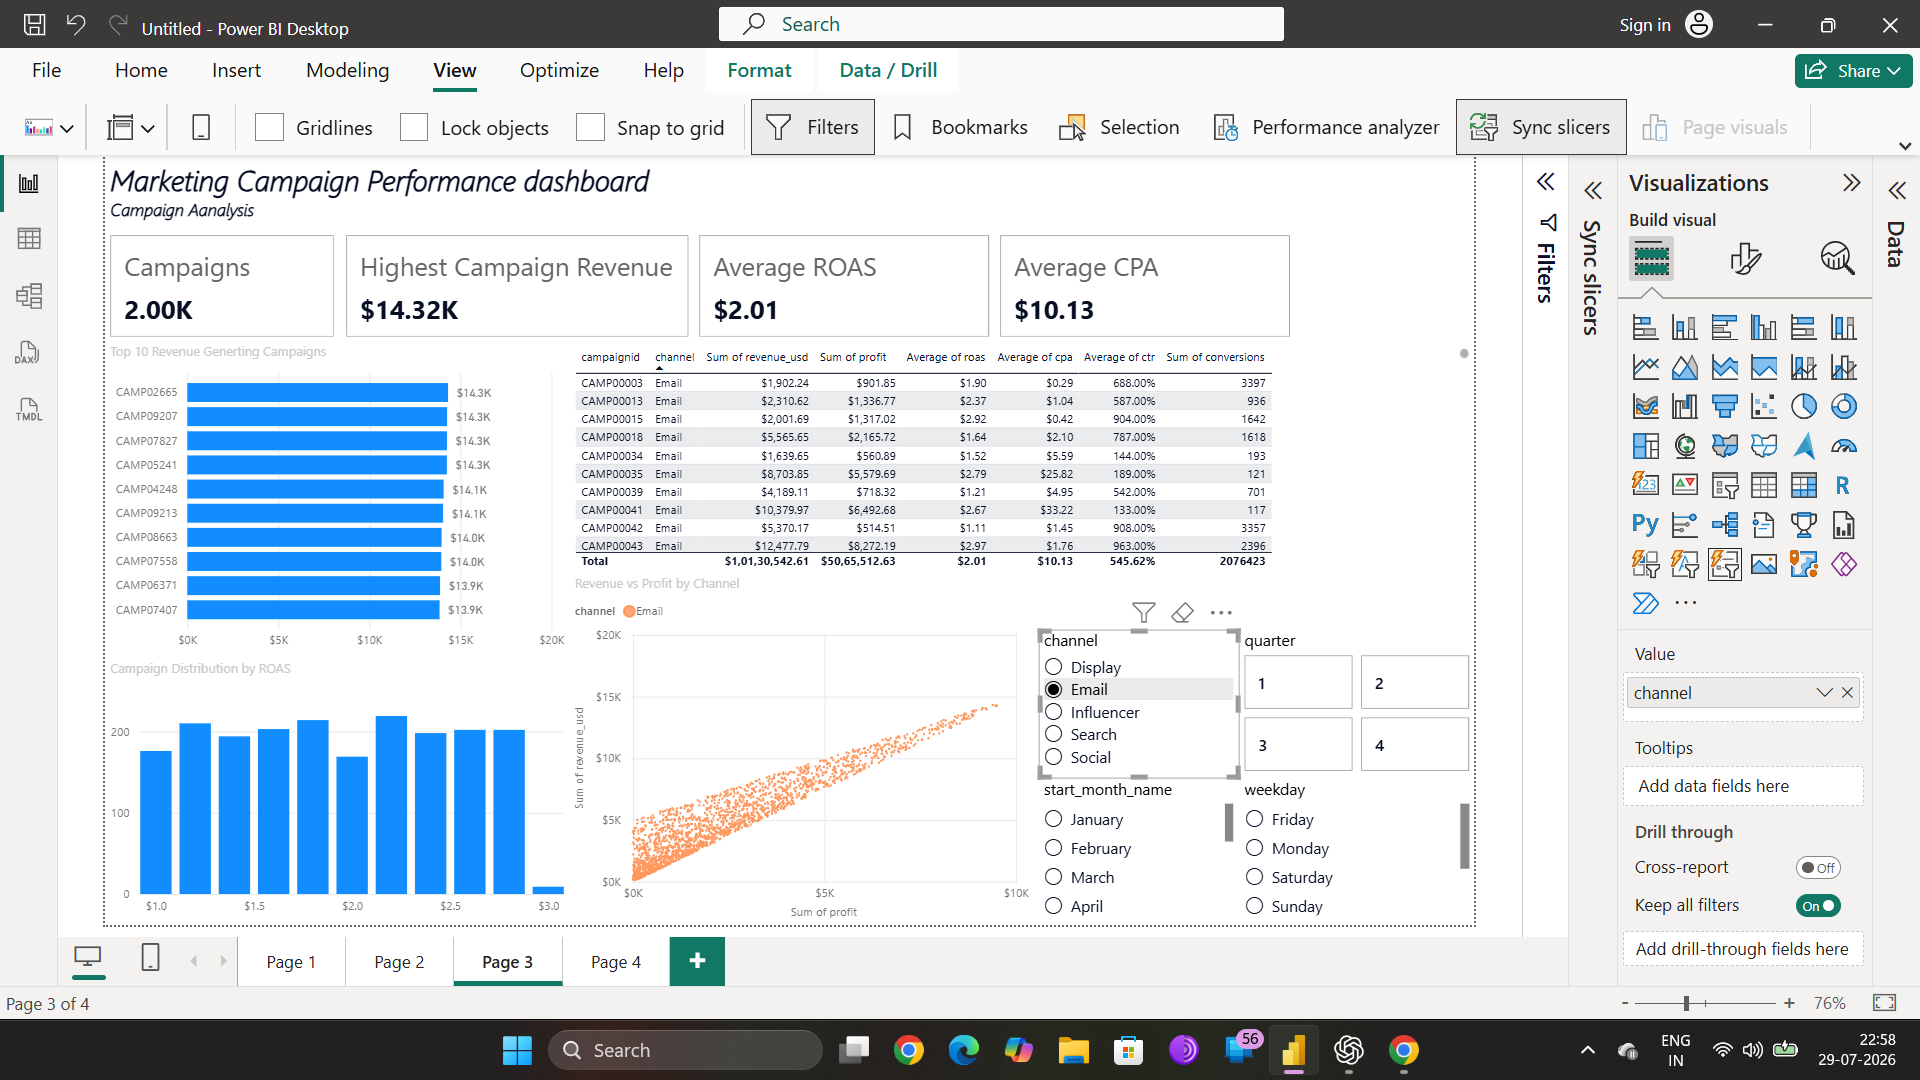

The dashboard page shown, as its layout file describes it:
{"tool":"powerbi","page":{"name":"Page 3","canvas":[1280,720],"ordinal":2},"visuals":[{"type":"cardVisual","fields":{"Data":["Count(marketing_campaign_engineered.campaignid)"]},"box":[0,70.6,220,105.1],"z":0},{"type":"cardVisual","fields":{"Data":["Avg(marketing_campaign_engineered.roas)"]},"box":[550.8,70,281.3,105.7],"z":1000},{"type":"cardVisual","fields":{"Data":["Avg(marketing_campaign_engineered.cpa)"]},"box":[832.1,70,281.3,105.7],"z":2000},{"type":"cardVisual","fields":{"Data":["Max(marketing_campaign_engineered.revenue_usd)"]},"box":[220.6,70,330.2,105.7],"z":3000},{"type":"textbox","box":[0,0,1279.8,70.6],"z":4000},{"type":"clusteredBarChart","title":"Top 10 Revenue Generting Campaigns","fields":{"Y":["Sum(marketing_campaign_engineered.revenue_usd)"],"Category":["marketing_campaign_engineered.campaignid"]},"box":[0,175.8,434.5,295.8],"z":5000},{"type":"scatterChart","title":"Revenue vs Profit by Channel","fields":{"X":["Sum(marketing_campaign_engineered.profit)"],"Y":["Sum(marketing_campaign_engineered.revenue_usd)"],"Series":["marketing_campaign_engineered.channel"],"Category":["marketing_campaign_engineered.campaignid"]},"box":[434.3,392.9,434.3,327.1],"z":6000},{"type":"clusteredColumnChart","title":"Campaign Distribution by ROAS","fields":{"Y":["CountNonNull(marketing_campaign_engineered.campaignid)"],"Category":["marketing_campaign_engineered.roas (bins)"]},"box":[0,471.4,434.3,248.6],"z":7000},{"type":"tableEx","fields":{"Values":["marketing_campaign_engineered.campaignid","marketing_campaign_engineered.channel","Sum(marketing_campaign_engineered.revenue_usd)","Sum(marketing_campaign_engineered.profit)","Avg(marketing_campaign_engineered.roas)","Avg(marketing_campaign_engineered.cpa)","Avg(marketing_campaign_engineered.ctr)","Sum(marketing_campaign_engineered.conversions)"]},"box":[434.3,175.7,845.7,217.1],"z":8000},{"type":"advancedSlicerVisual","fields":{"Values":["marketing_campaign_engineered.quarter"]},"box":[1060,444.3,220,138.6],"z":8001},{"type":"listSlicer","fields":{"Values":["marketing_campaign_engineered.channel"]},"box":[872.9,444.3,187.1,138.6],"z":8002},{"type":"listSlicer","fields":{"Values":["marketing_campaign_engineered.start_month_name"]},"box":[872.9,582.9,187.1,137.1],"z":8003},{"type":"listSlicer","fields":{"Values":["marketing_campaign_engineered.weekday"]},"box":[1060,582.9,220,137.1],"z":8004}]}

Visuals, with their boxes on the page's 1280x720 design canvas (x1, y1, x2, y2). These are canvas units, not pixel positions in the 1920x1080 screenshot, which may show the page scaled, cropped or inside an application window:
cardVisual - Count(marketing_campaign_engineered.campaignid): [0, 71, 220, 176]
cardVisual - Avg(marketing_campaign_engineered.roas): [551, 70, 832, 176]
cardVisual - Avg(marketing_campaign_engineered.cpa): [832, 70, 1113, 176]
cardVisual - Max(marketing_campaign_engineered.revenue_usd): [221, 70, 551, 176]
textbox: [0, 0, 1280, 71]
"Top 10 Revenue Generting Campaigns" clusteredBarChart: [0, 176, 434, 472]
"Revenue vs Profit by Channel" scatterChart: [434, 393, 869, 720]
"Campaign Distribution by ROAS" clusteredColumnChart: [0, 471, 434, 720]
tableEx - marketing_campaign_engineered.campaignid x marketing_campaign_engineered.channel: [434, 176, 1280, 393]
advancedSlicerVisual - marketing_campaign_engineered.quarter: [1060, 444, 1280, 583]
listSlicer - marketing_campaign_engineered.channel: [873, 444, 1060, 583]
listSlicer - marketing_campaign_engineered.start_month_name: [873, 583, 1060, 720]
listSlicer - marketing_campaign_engineered.weekday: [1060, 583, 1280, 720]
